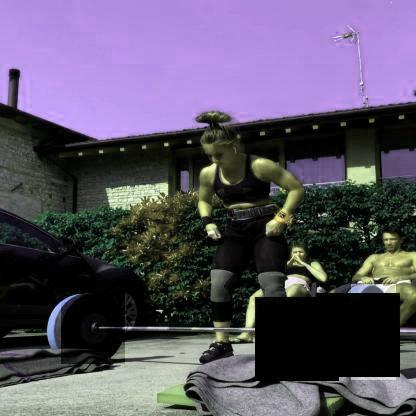barbell: (62, 293, 125, 365), (352, 284, 397, 380)
